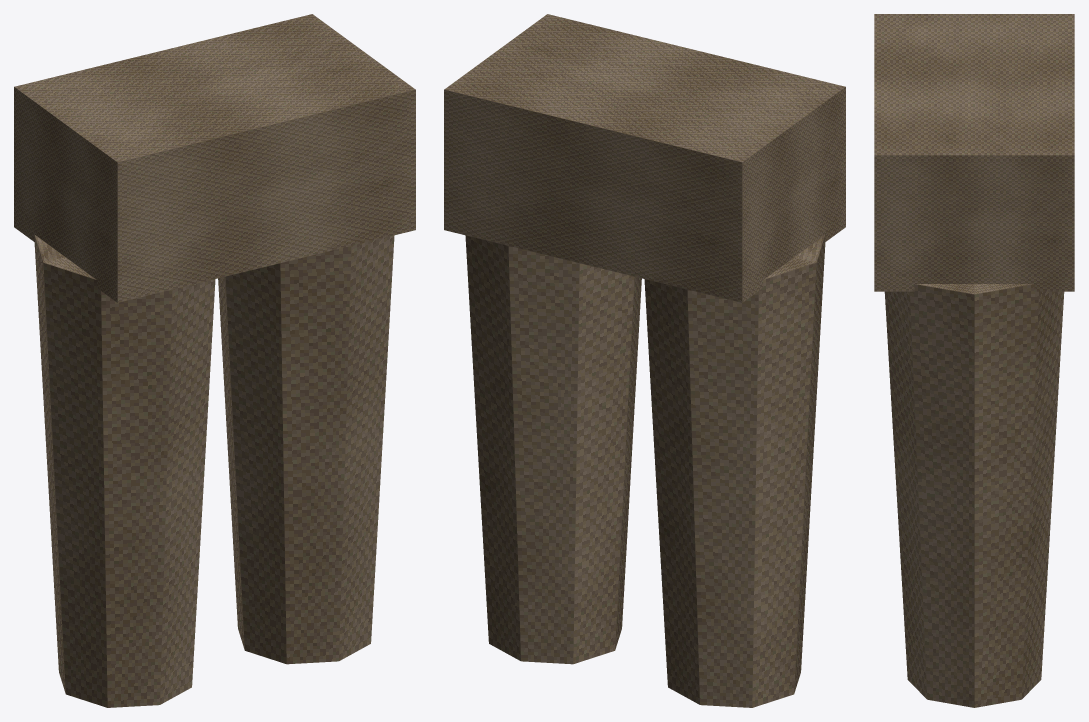
File: calcas_remendadas.glb
The picture shows the model from 3 angles, left to right: view 1: azimuth 30°, elevation 25°; view 2: azimuth 150°, elevation 25°; view 3: azimuth 270°, elevation 25°; orthographic projection. The views are drawn at different scales.
Parts seen in each view (by area): view 1: calcas_remendadas; view 2: calcas_remendadas; view 3: calcas_remendadas.
Part boxes in pixels (left/top/right/bottom): calcas_remendadas: left=14, top=14, right=415, bottom=707; calcas_remendadas: left=444, top=14, right=845, bottom=707; calcas_remendadas: left=874, top=14, right=1074, bottom=707.
Bounding box in the file's own units: 0.46 × 0.73 × 0.24.
Materials: 1 (1 with a texture image).
